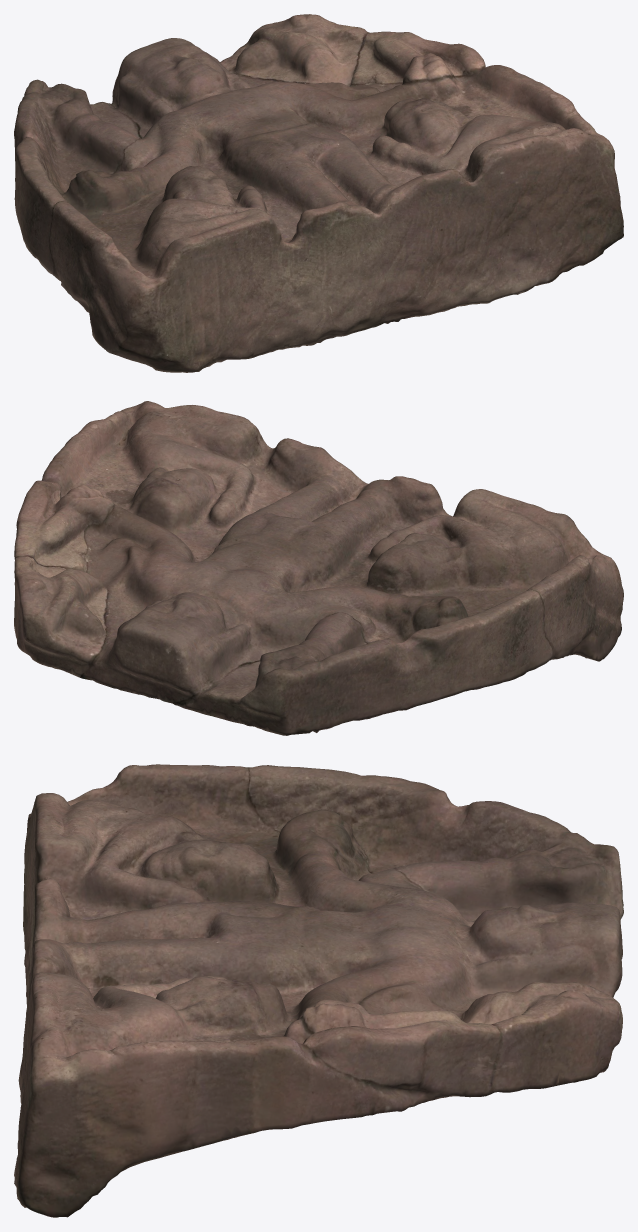
File: MysonMuseum_warehousephudieu3_final.glb
3 views of the same model, one above another, from view 1: azimuth 30°, elevation 25°; view 2: azimuth 150°, elevation 25°; view 3: azimuth 270°, elevation 25° (orthographic). The views are drawn at different scales.
Size of the model in its own units: 0.6535 by 0.1889 by 0.5171.
1 material, 1 textured.
